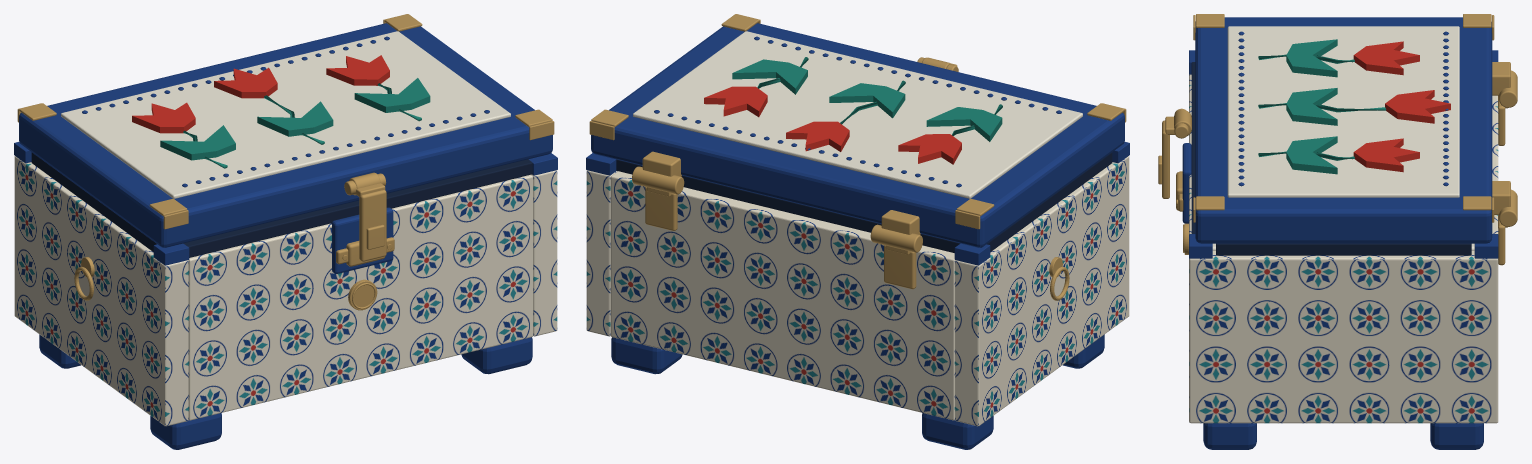
File: turkey.glb
3 views of the same model, side by side, from view 1: azimuth 30°, elevation 25°; view 2: azimuth 150°, elevation 25°; view 3: azimuth 270°, elevation 25° (orthographic). The views are drawn at different scales.
Parts seen in each view (by area): view 1: Ceramic / front, Ornament / ivory panel, Lid / polished slab, Ceramic / side, Mineral seam / long, Ceramic / side.001, Cobalt / foot, Cobalt / foot.002, Ceramic / clasp seat, Latch / lifting hasp, Mineral seam / side, Ornament / tulip 0 (+11 smaller); view 2: Ceramic / rear, Ornament / ivory panel, Lid / polished slab, Ceramic / side, Ceramic / side.001, Mineral seam / long.001, Cobalt / foot.001, Cobalt / foot.003, Mineral seam / side, Ornament / tulip 2, Ornament / tulip 1, Ornament / tulip 0 (+15 smaller); view 3: Ceramic / side.001, Ornament / ivory panel, Lid / polished slab, Mineral seam / side.001, Ornament / tulip 0, Ornament / tulip 2, Ornament / tulip 1, Cobalt / foot.003, Cobalt / foot.002, Ornament / leaf 1 1, Ornament / leaf 0 1, Ornament / leaf 2 1 (+18 smaller).
Boxes of the visible parts, x1=… form: Ceramic / front: x1=188, y1=174, x2=533, y2=420; Ornament / ivory panel: x1=61, y1=31, x2=510, y2=198; Lid / polished slab: x1=19, y1=23, x2=552, y2=247; Ceramic / side: x1=14, y1=156, x2=188, y2=426; Mineral seam / long: x1=183, y1=159, x2=532, y2=257; Ceramic / side.001: x1=531, y1=170, x2=557, y2=336; Cobalt / foot: x1=150, y1=413, x2=221, y2=449; Cobalt / foot.002: x1=461, y1=337, x2=532, y2=374; Ceramic / clasp seat: x1=331, y1=207, x2=393, y2=273; Latch / lifting hasp: x1=359, y1=190, x2=386, y2=261; Mineral seam / side: x1=31, y1=152, x2=156, y2=251; Ornament / tulip 0: x1=132, y1=102, x2=195, y2=133; Ceramic / rear: x1=610, y1=171, x2=955, y2=420; Ornament / ivory panel: x1=633, y1=31, x2=1082, y2=198; Lid / polished slab: x1=591, y1=23, x2=1124, y2=247; Ceramic / side: x1=955, y1=156, x2=1129, y2=426; Ceramic / side.001: x1=586, y1=170, x2=617, y2=336; Mineral seam / long.001: x1=616, y1=159, x2=960, y2=252; Cobalt / foot.001: x1=922, y1=413, x2=993, y2=449; Cobalt / foot.003: x1=611, y1=337, x2=682, y2=374; Mineral seam / side: x1=987, y1=152, x2=1112, y2=251; Ornament / tulip 2: x1=704, y1=86, x2=767, y2=117; Ornament / tulip 1: x1=786, y1=121, x2=849, y2=151; Ornament / tulip 0: x1=898, y1=134, x2=961, y2=164; Ceramic / side.001: x1=1189, y1=251, x2=1498, y2=423; Ornament / ivory panel: x1=1227, y1=26, x2=1459, y2=197; Lid / polished slab: x1=1195, y1=17, x2=1492, y2=243; Mineral seam / side.001: x1=1216, y1=243, x2=1471, y2=255; Ornament / tulip 0: x1=1353, y1=41, x2=1419, y2=75; Ornament / tulip 2: x1=1353, y1=138, x2=1419, y2=172; Ornament / tulip 1: x1=1385, y1=90, x2=1450, y2=123; Cobalt / foot.003: x1=1430, y1=423, x2=1483, y2=449; Cobalt / foot.002: x1=1203, y1=423, x2=1256, y2=449; Ornament / leaf 1 1: x1=1286, y1=103, x2=1337, y2=125; Ornament / leaf 0 1: x1=1286, y1=55, x2=1337, y2=77; Ornament / leaf 2 1: x1=1286, y1=152, x2=1337, y2=174.
Size of the model in its own units: 3.79 by 2.29 by 2.88.
Materials: 7 (1 with a texture image).
